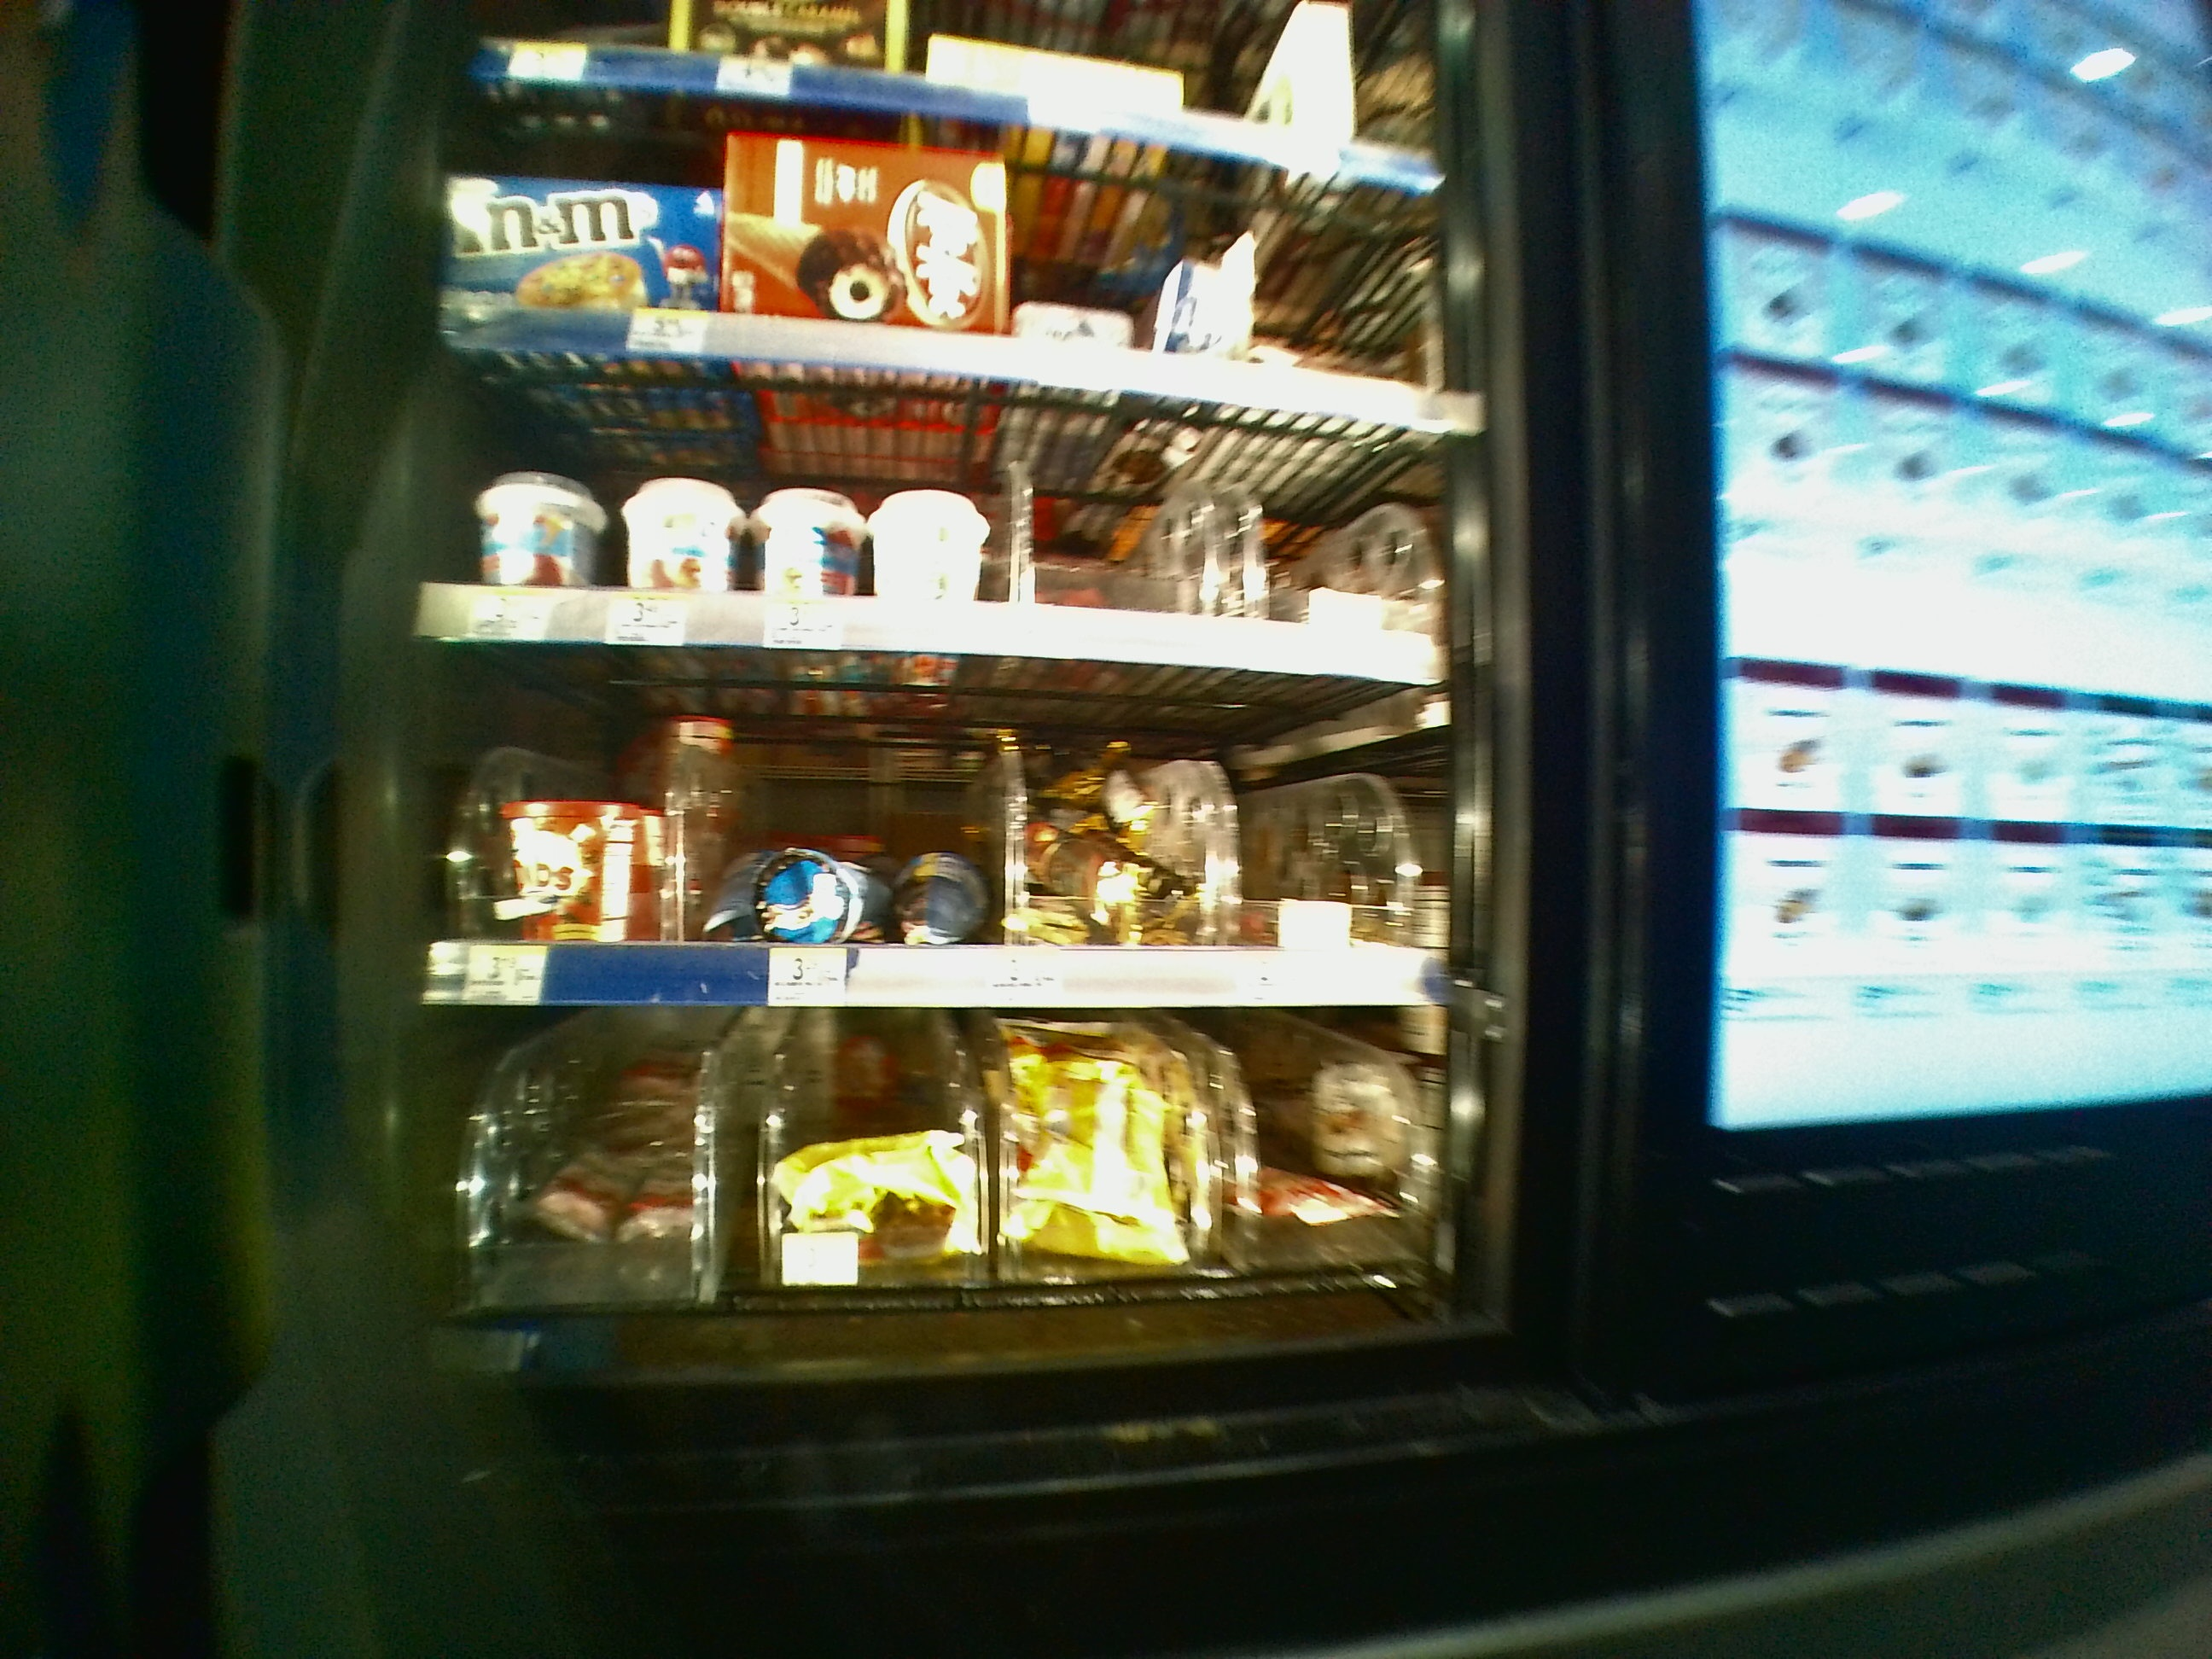shelf: (432, 1025, 1463, 1382), (421, 667, 1456, 1009), (411, 345, 1453, 652)
